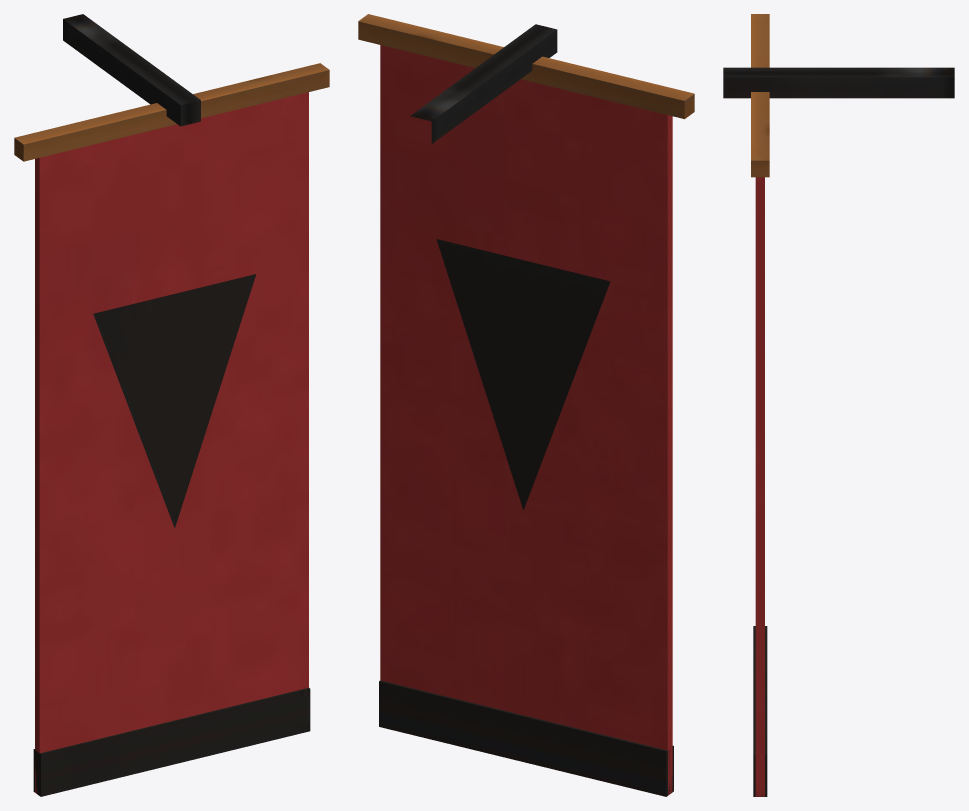
Rendered from warriors_banner.glb.
3 views of the same model, side by side, from view 1: azimuth 30°, elevation 25°; view 2: azimuth 150°, elevation 25°; view 3: azimuth 270°, elevation 25° (orthographic). The views are drawn at different scales.
Visible parts, largest first — view 1: props_0_0; view 2: props_0_0; view 3: props_0_0.
Part boxes in pixels (box(x1,y1,x2,y2)): props_0_0: box(14, 14, 329, 796); props_0_0: box(358, 14, 694, 796); props_0_0: box(723, 14, 954, 796).
Size of the model in its own units: 0.75 by 1.58 by 0.5.
2 materials, 2 textured.
